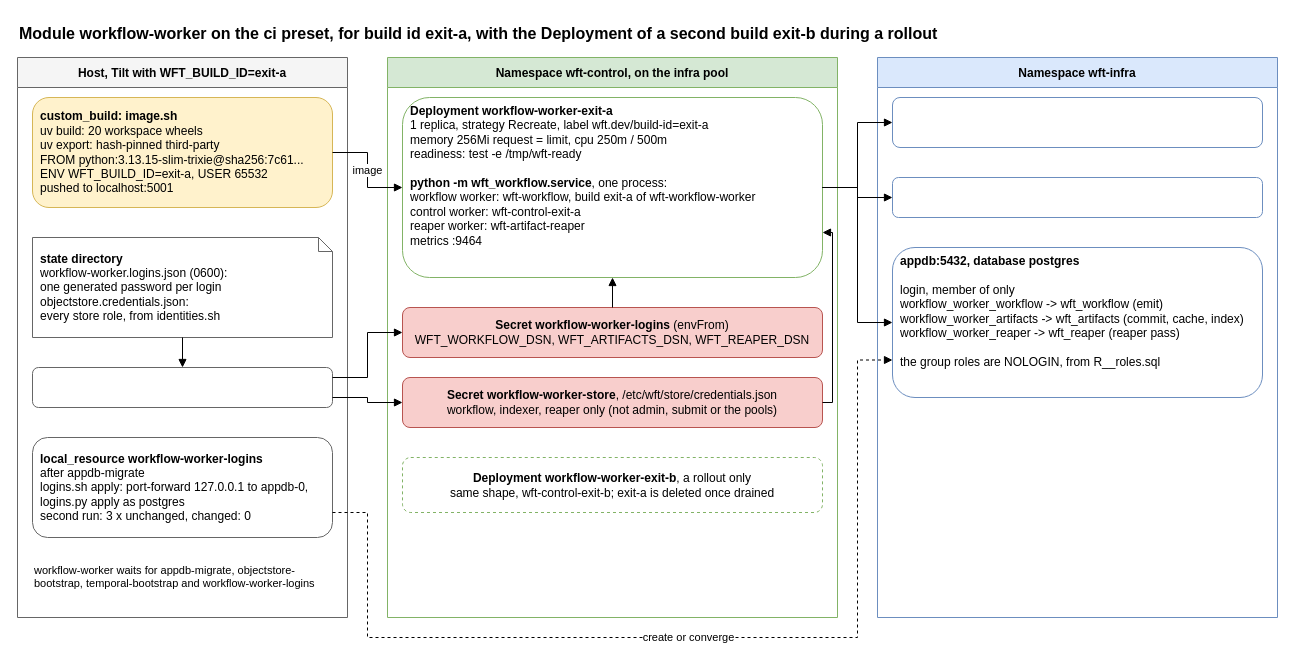
Some shapes in this 1295 by 663 pixel diagram are drawn without their labels. The centre of each missing label's shape, as x and y in pixels:
"logins.py render at load: two Secrets" belongs at point (182, 387).
"objectstore:8333" belongs at point (1077, 197).
"temporal-frontend:7233 namespace wft" belongs at point (1077, 122).
